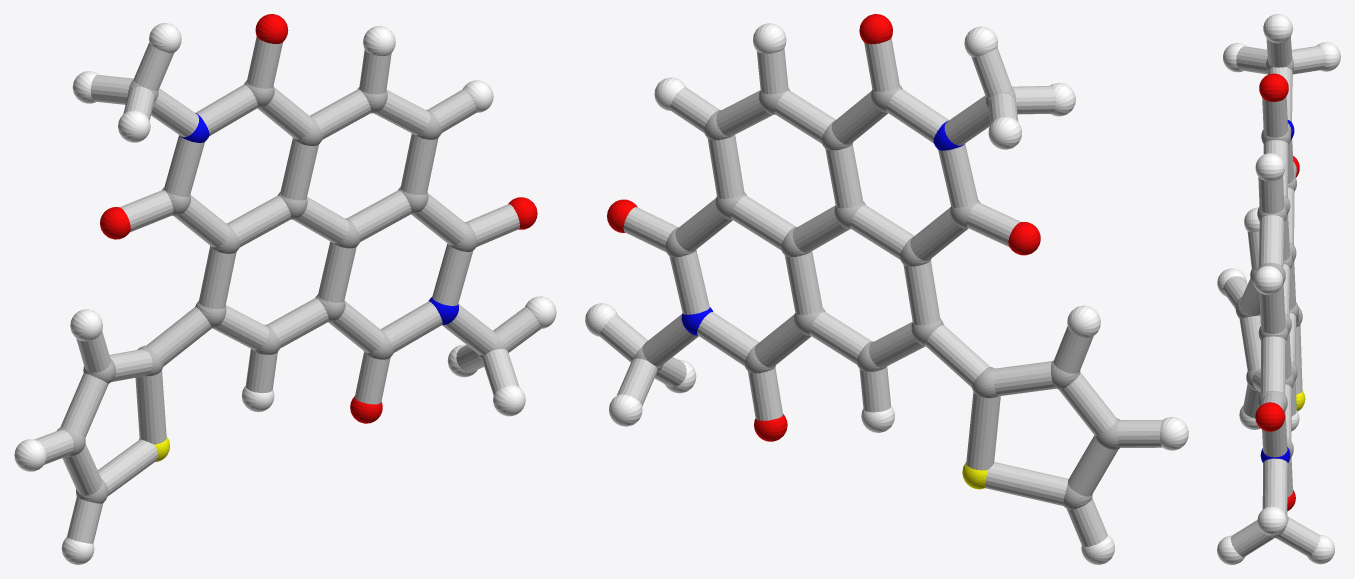
The model's file is Dimethyl_Naphthalene_Dicarboximide_Phi_20_Theta_350_Thiophene.glb.
The picture shows the model from 3 angles, left to right: view 1: azimuth 30°, elevation 25°; view 2: azimuth 150°, elevation 25°; view 3: azimuth 270°, elevation 25°; orthographic projection. The views are drawn at different scales.
Parts seen in each view (by area): view 1: grp14119, grp7241, grp1, grp12309, grp11585; view 2: grp14119, grp7241, grp1, grp12309, grp11585; view 3: grp14119, grp7241, grp1, grp12309, grp11585.
Boxes of the visible parts, bbox=[...] form: grp14119: bbox=[35, 37, 541, 543]; grp7241: bbox=[14, 23, 556, 564]; grp1: bbox=[57, 80, 506, 503]; grp12309: bbox=[100, 14, 537, 423]; grp11585: bbox=[180, 113, 458, 324]; grp14119: bbox=[599, 38, 1162, 546]; grp7241: bbox=[585, 23, 1188, 564]; grp1: bbox=[632, 85, 1119, 509]; grp12309: bbox=[607, 14, 1040, 441]; grp11585: bbox=[681, 121, 964, 335]; grp14119: bbox=[1223, 36, 1326, 556]; grp7241: bbox=[1217, 14, 1340, 564]; grp1: bbox=[1235, 57, 1302, 537]; grp12309: bbox=[1255, 73, 1299, 511]; grp11585: bbox=[1260, 120, 1294, 462].
Size of the model in its own units: 11.85 by 10.21 by 2.5.
